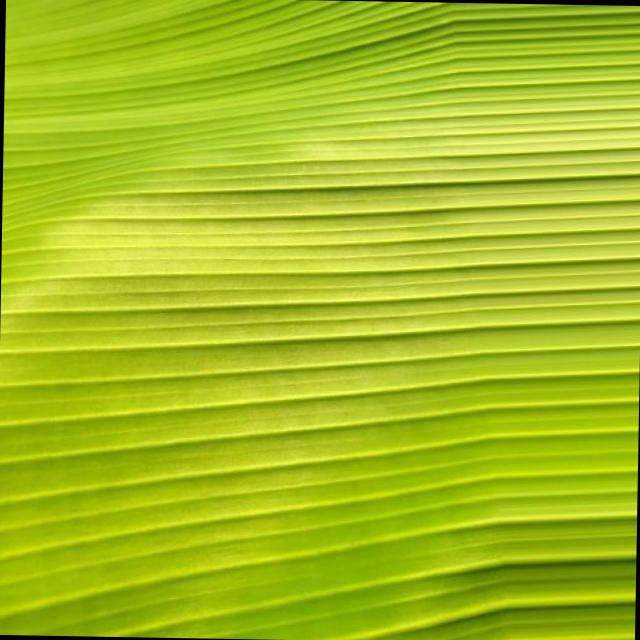Banana_Healthy: (76, 108, 580, 540)
